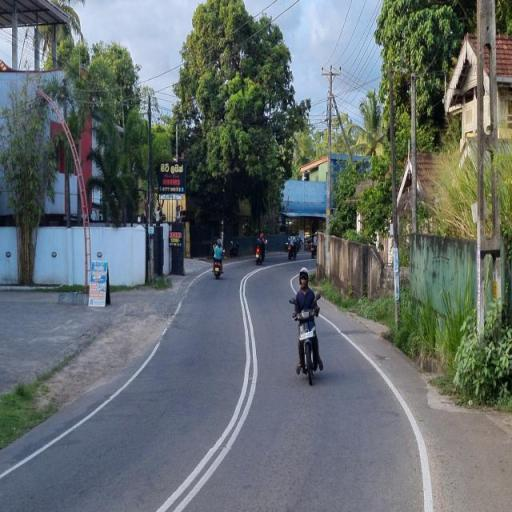double_white_line: (152, 264, 262, 510), (244, 0, 301, 26)
